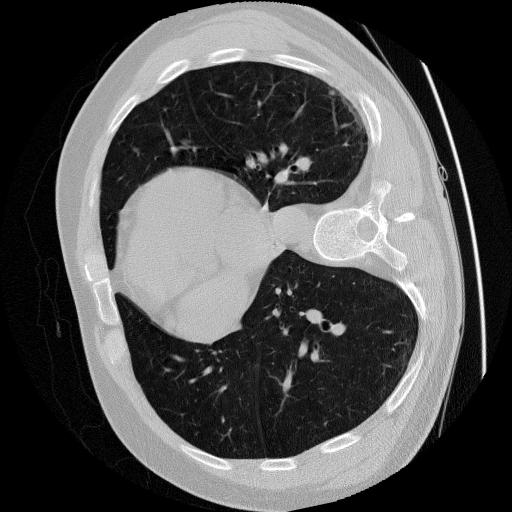nodule: (326, 88, 338, 100)
